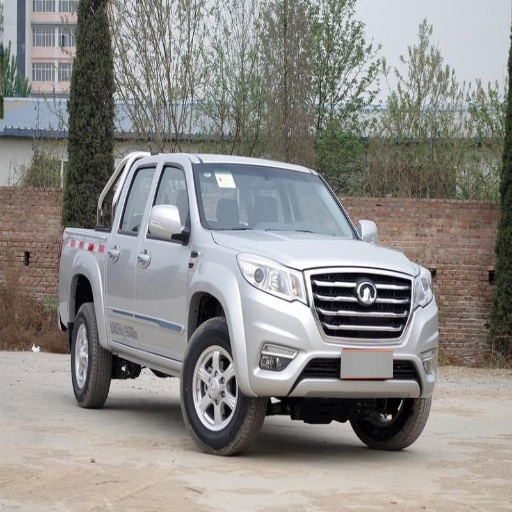front_bumper: (229, 268, 439, 416)
front_right_door: (136, 161, 190, 357)
front_right_light: (239, 256, 305, 299)
hood: (214, 232, 417, 273)
trunk: (55, 231, 100, 322)
